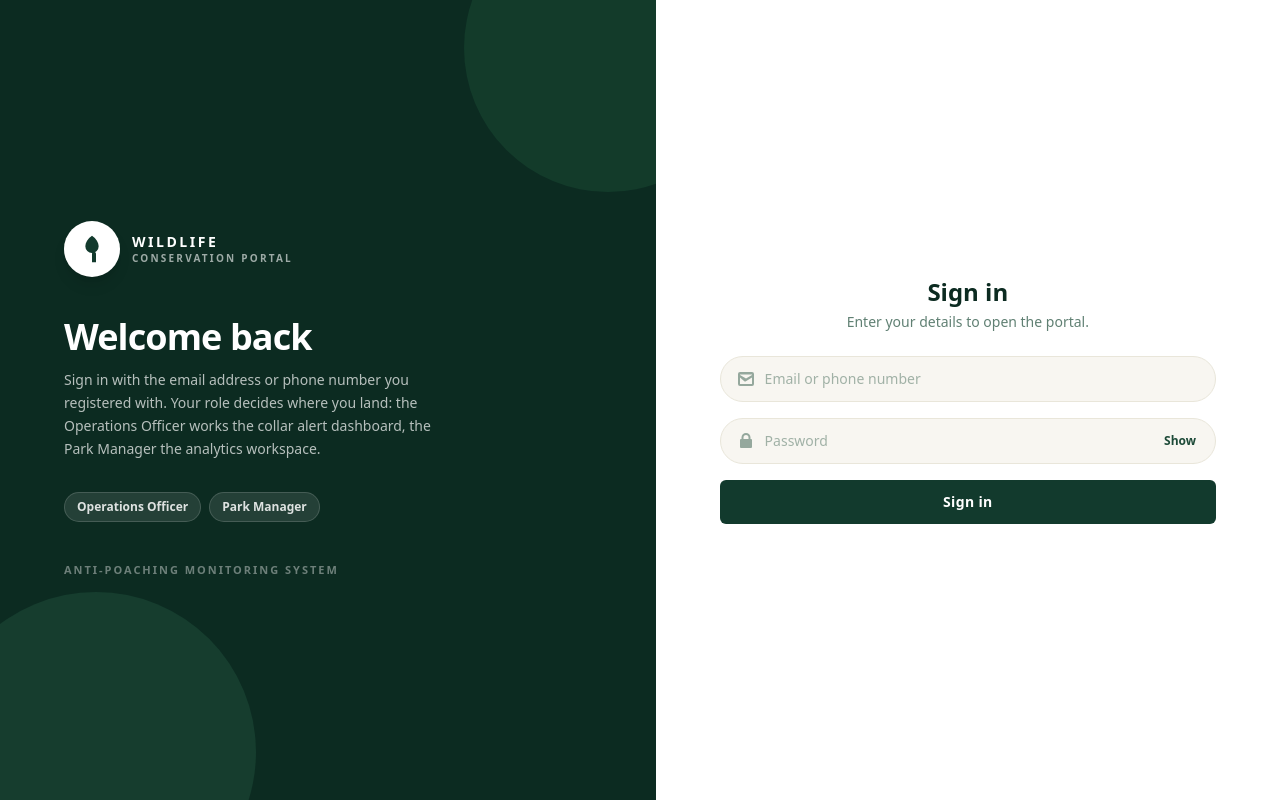
Test case: portal sign-in › shows the server message and stores nothing when the sign-in fails
Type "officer@wildlife.demo" into the field labelled "Email or phone number".
click(968, 379); type("officer@wildlife.demo")  # box [720, 356, 1216, 402]
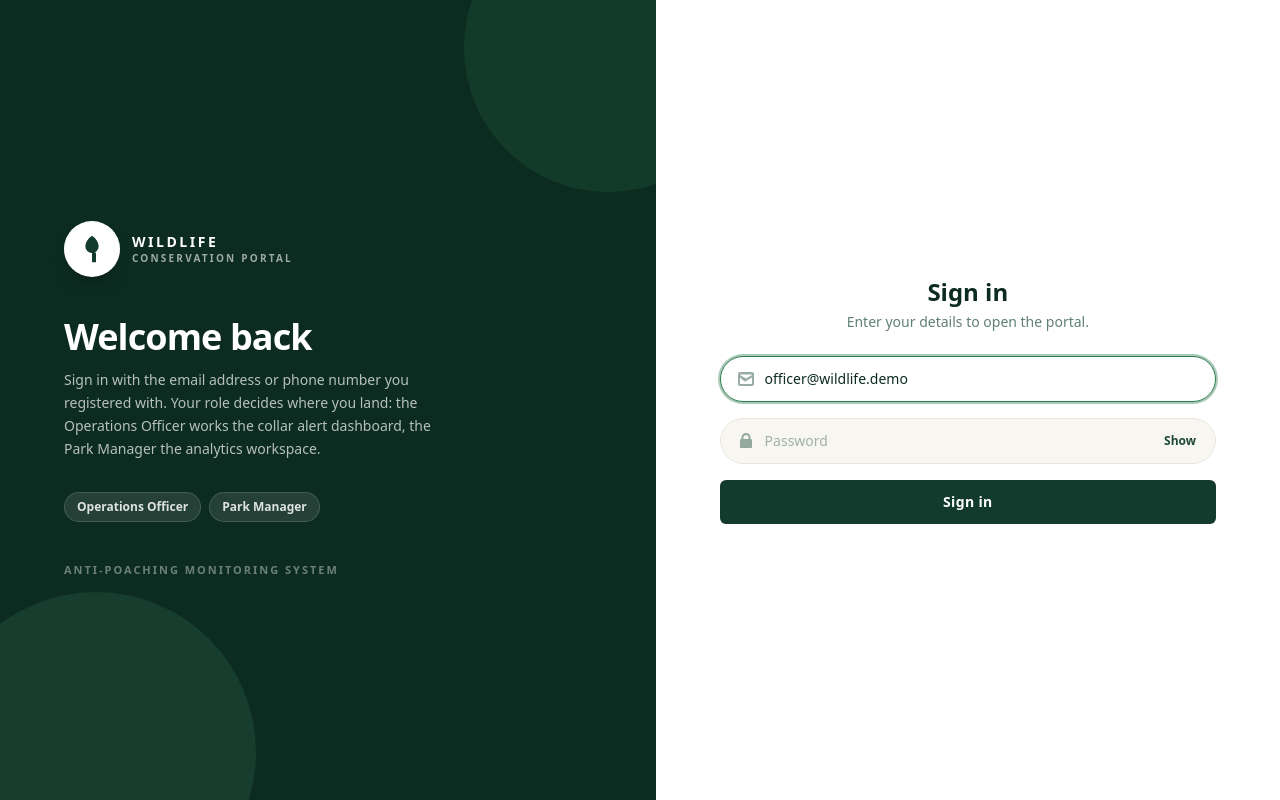
Type "wrong-password" into the password field labelled "Password".
click(968, 441); type("wrong-password")  # box [720, 418, 1216, 464]
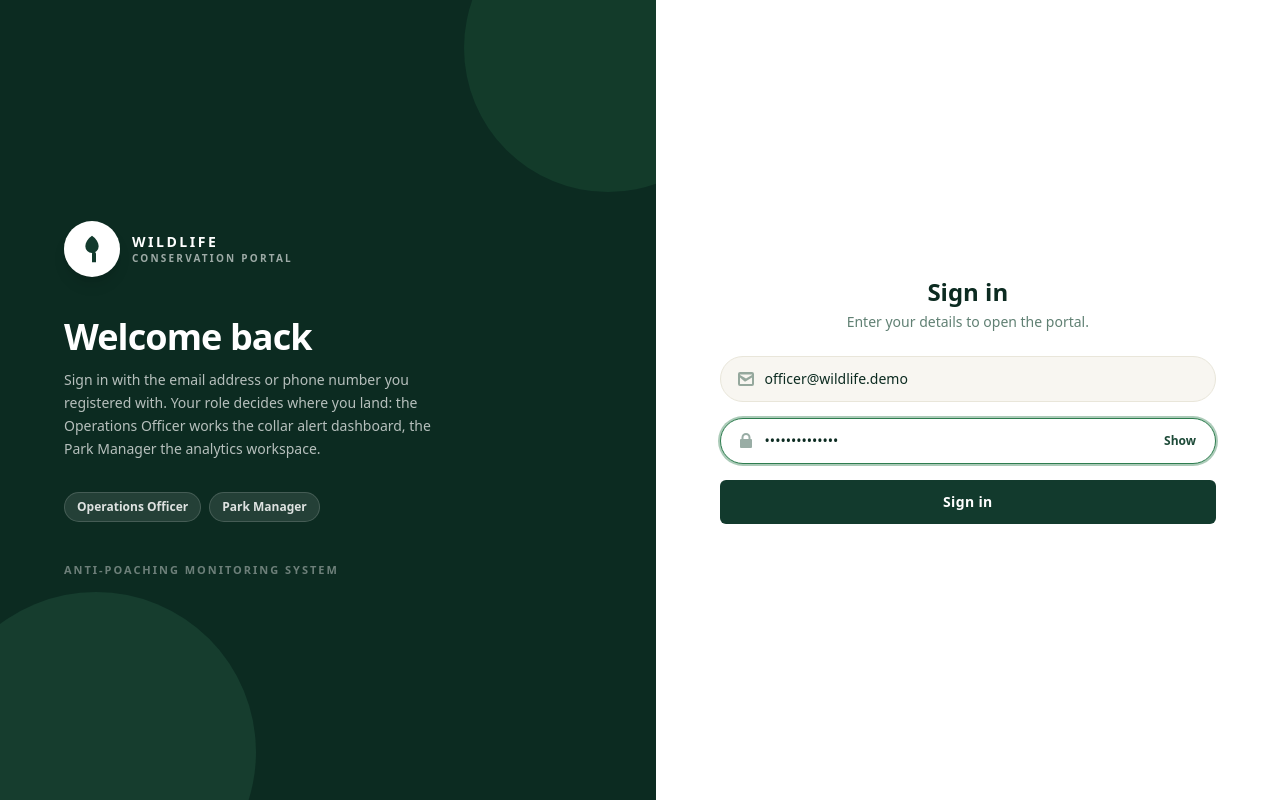
Click the button "Sign in".
click(968, 502)  # box [720, 480, 1216, 524]
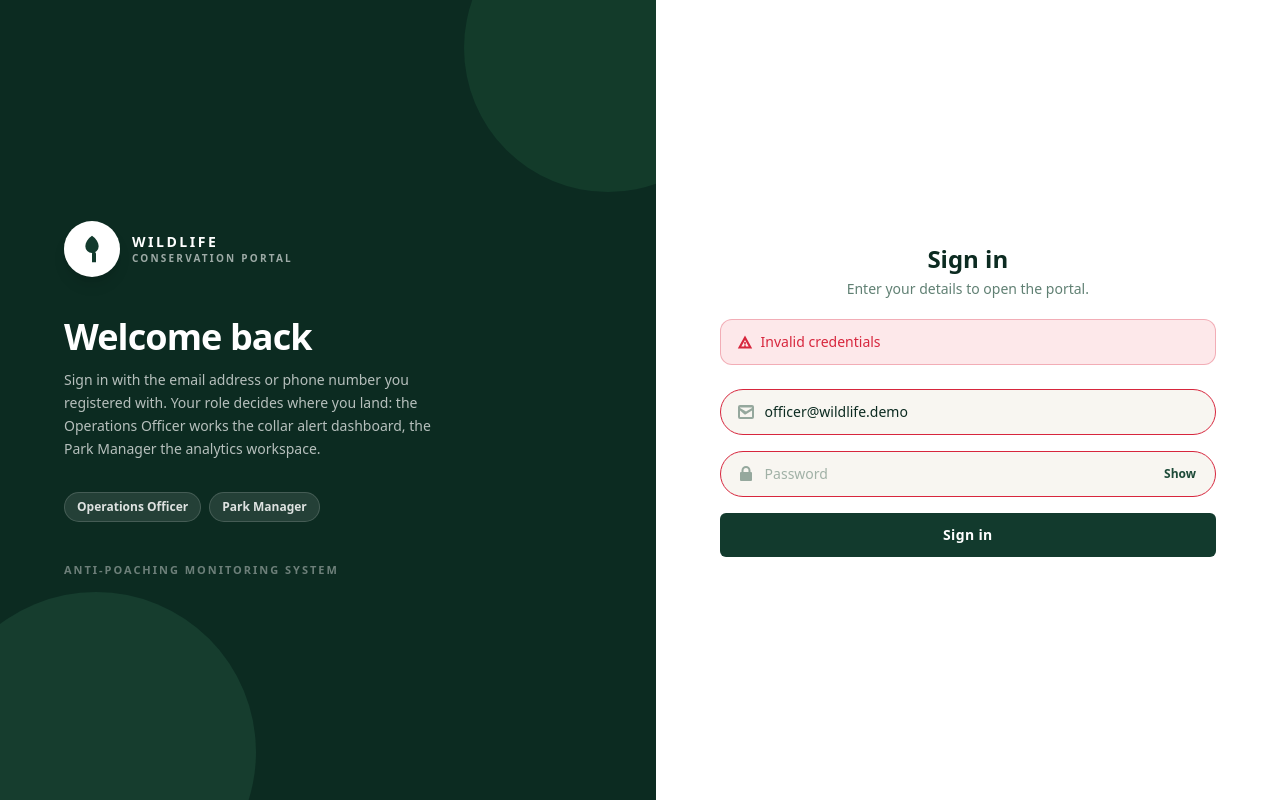
Now the message reads "Invalid credentials", box [761, 332, 881, 351]
